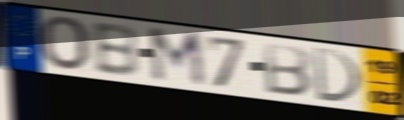7: (206, 33, 249, 90)
B: (262, 40, 314, 99), (89, 22, 142, 79)
D: (311, 46, 365, 106)
M: (146, 26, 209, 90)
O: (36, 15, 92, 74)
